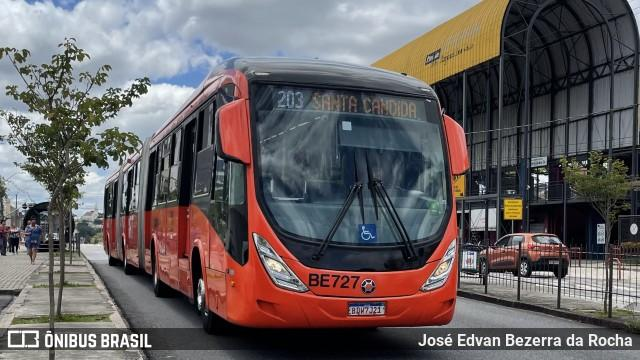SANTA CANDIDA: (309, 87, 419, 121)
